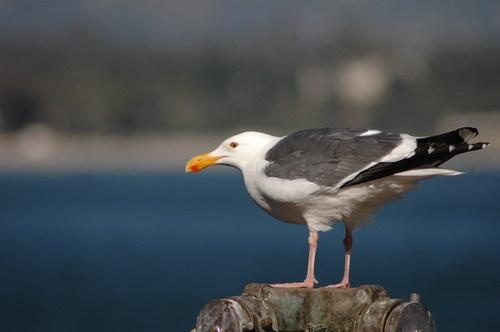bird: (181, 124, 487, 322)
